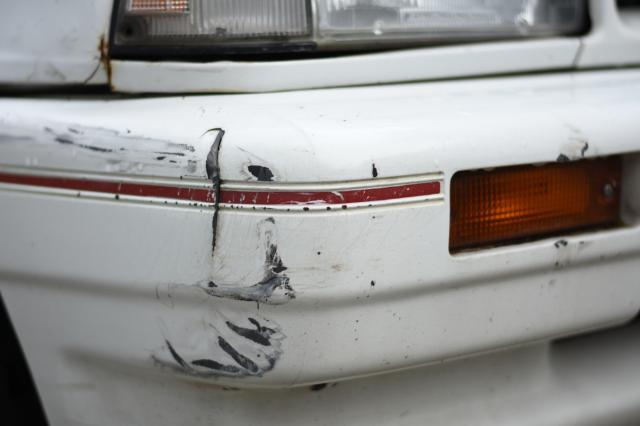crack: (203, 128, 225, 263)
scratch: (150, 214, 300, 387), (40, 122, 203, 174), (241, 156, 282, 187)
